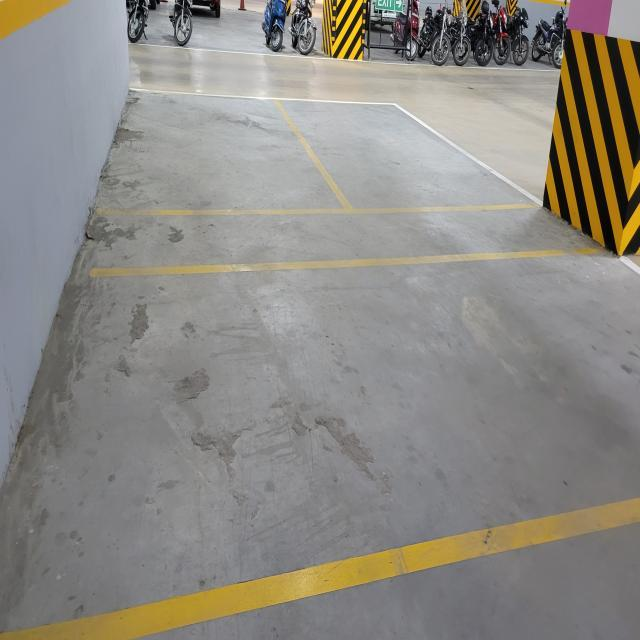free: (96, 254, 458, 587), (133, 88, 276, 230), (309, 94, 441, 232)
